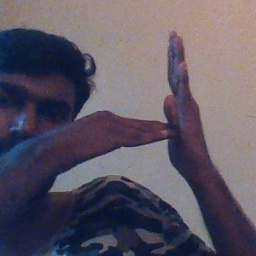Z: (104, 31, 213, 174)
